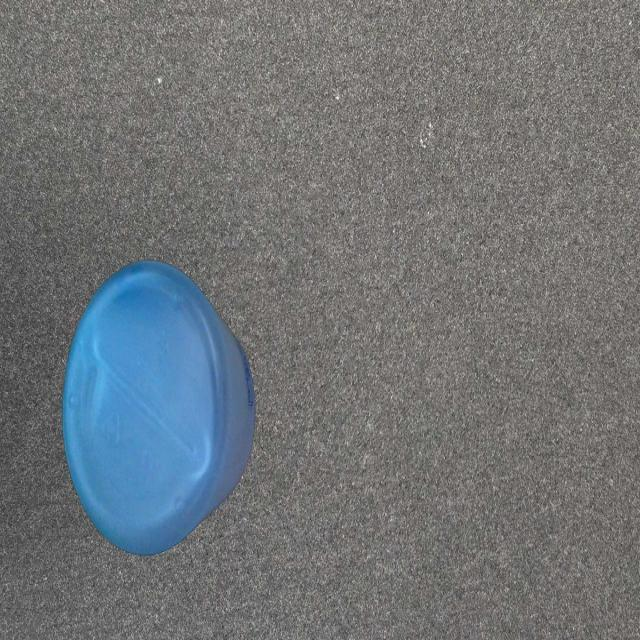bottle: (61, 257, 257, 560)
